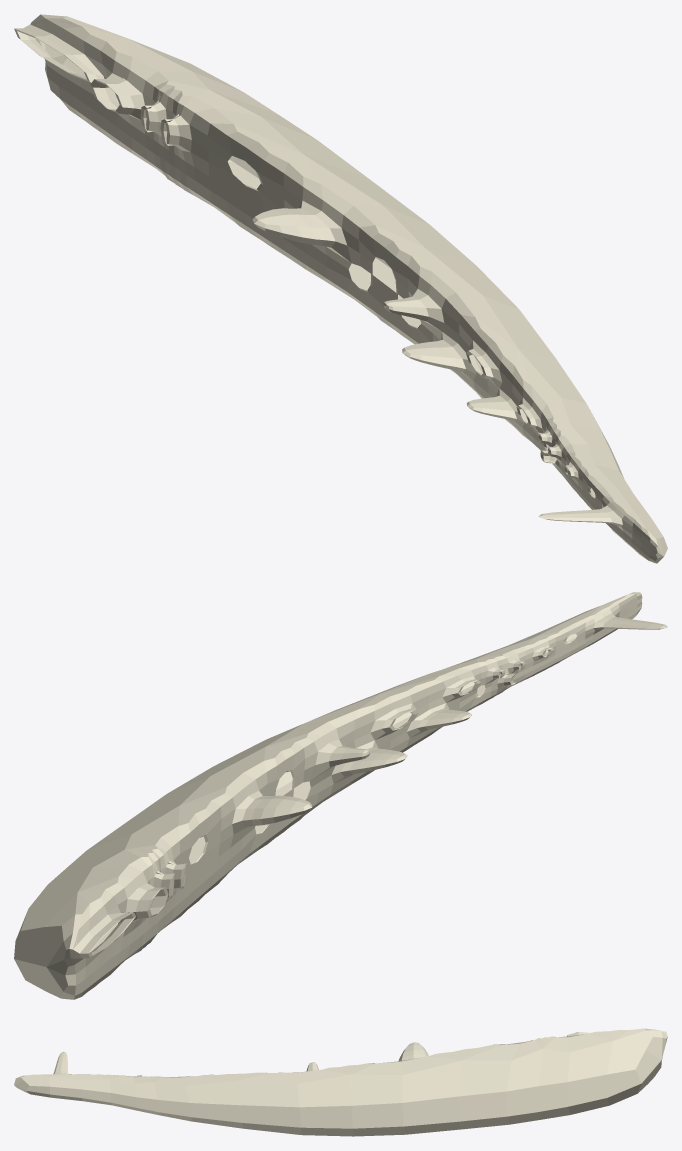
The model's file is Os_BAS2.fbx.
3 renders of one model, top to bottom at view 1: azimuth 30°, elevation 25°; view 2: azimuth 150°, elevation 25°; view 3: azimuth 270°, elevation 25°, orthographic. The views are drawn at different scales.
Parts seen in each view (by area): view 1: Os_Bas.2; view 2: Os_Bas.2; view 3: Os_Bas.2.
Boxes of the visible parts, box(x1,y1,x2,y2) form: Os_Bas.2: box(14, 14, 667, 563); Os_Bas.2: box(14, 592, 667, 999); Os_Bas.2: box(14, 1028, 667, 1136).
Size of the model in its own units: 646 by 389 by 3066.
